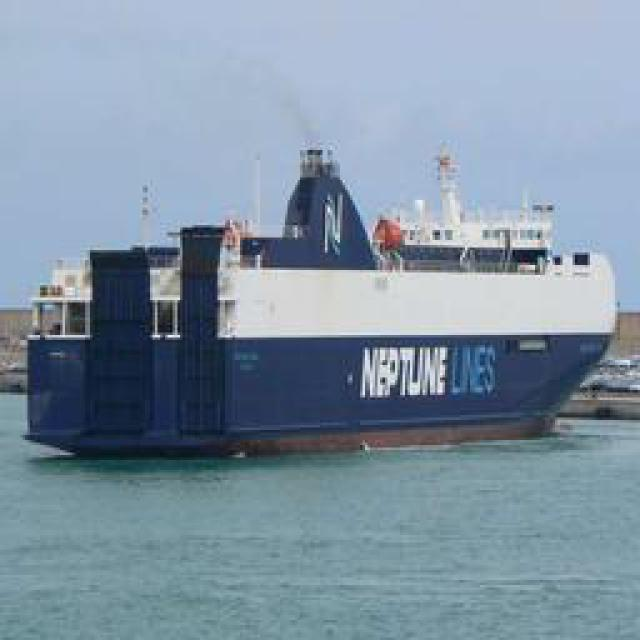Ship: (23, 134, 611, 454)
